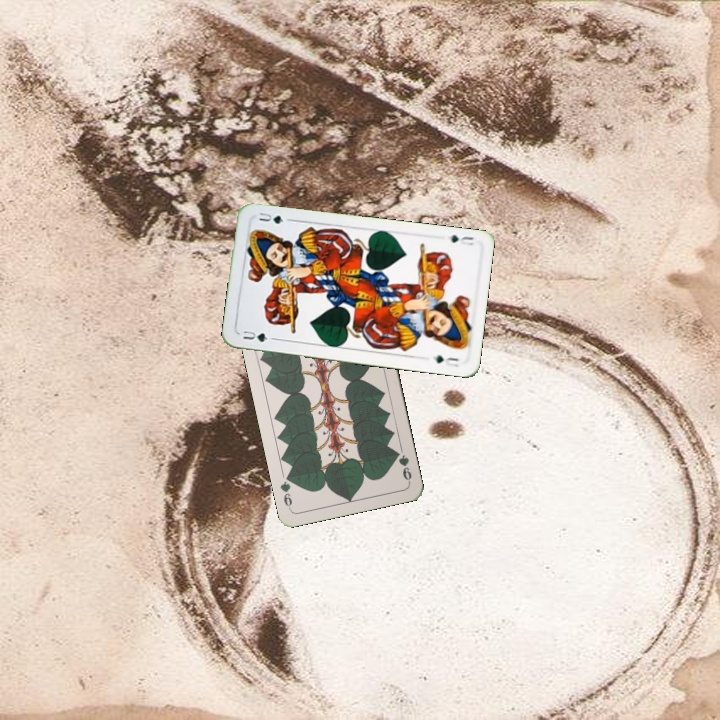G9: (391, 447, 414, 485)
GU: (239, 326, 270, 345), (446, 230, 477, 248)
